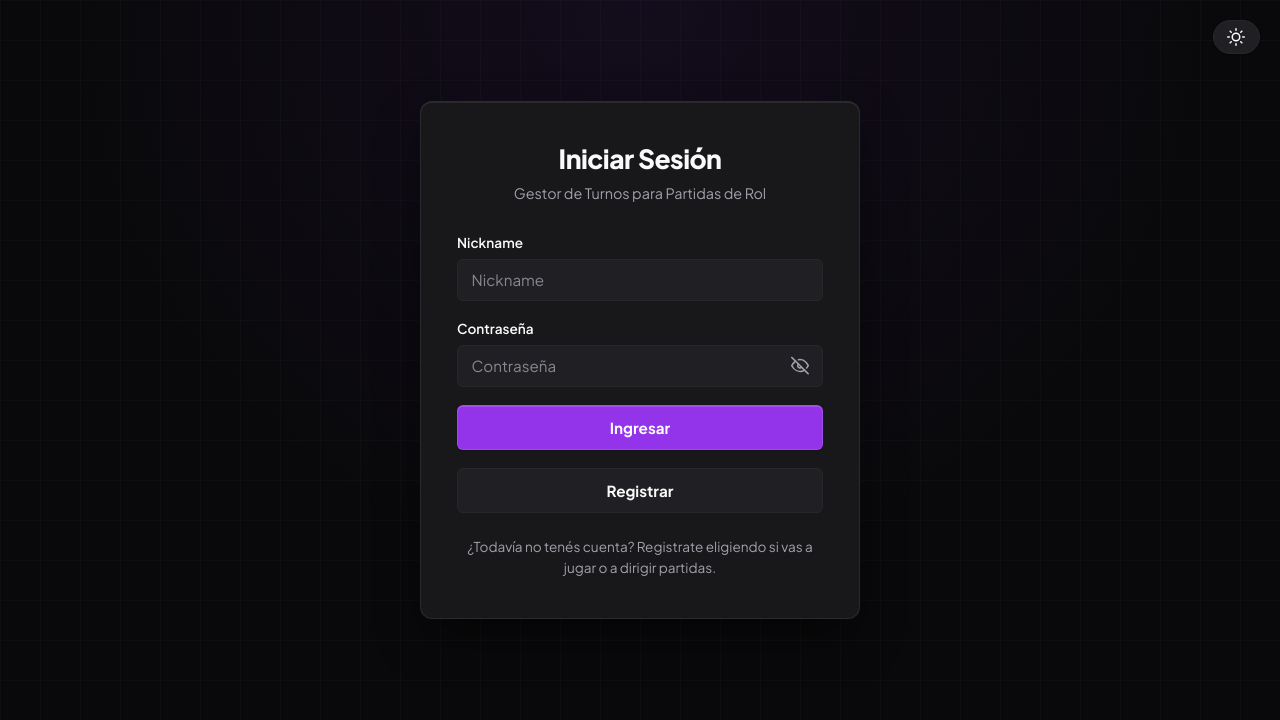
Test case: Login servidor › no envía campos vacíos
The width and height of the screenshot is (1280, 720).
Click the button "Ingresar" at {"x": 640, "y": 428}, box [457, 405, 823, 450]
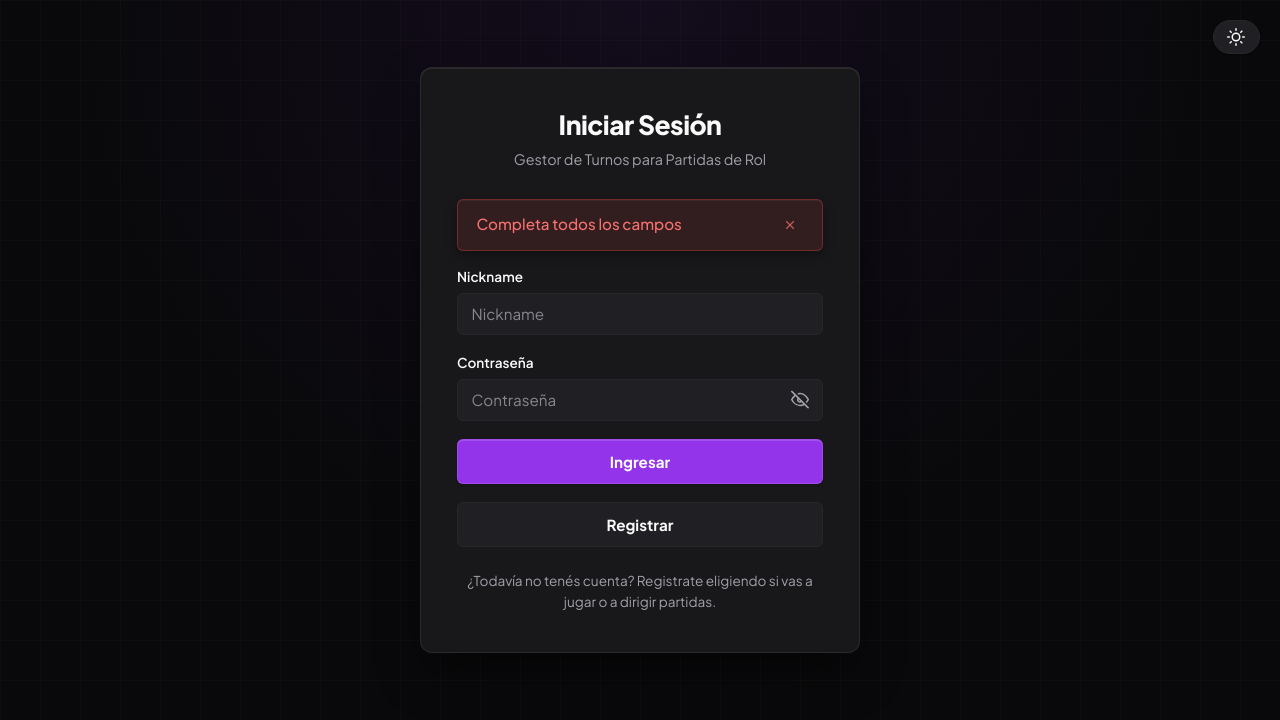
Now the text "Completa todos los campos" is shown, box [476, 214, 682, 233]
